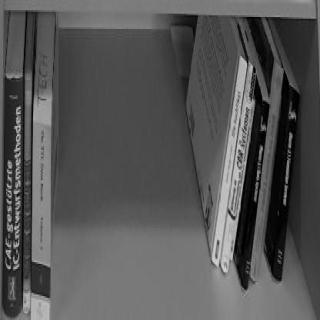book-spine: (218, 60, 258, 274), (209, 55, 249, 267), (247, 60, 285, 280), (268, 87, 302, 281), (239, 102, 270, 289), (2, 73, 23, 314), (229, 99, 256, 259), (30, 121, 51, 317), (20, 78, 33, 316)
